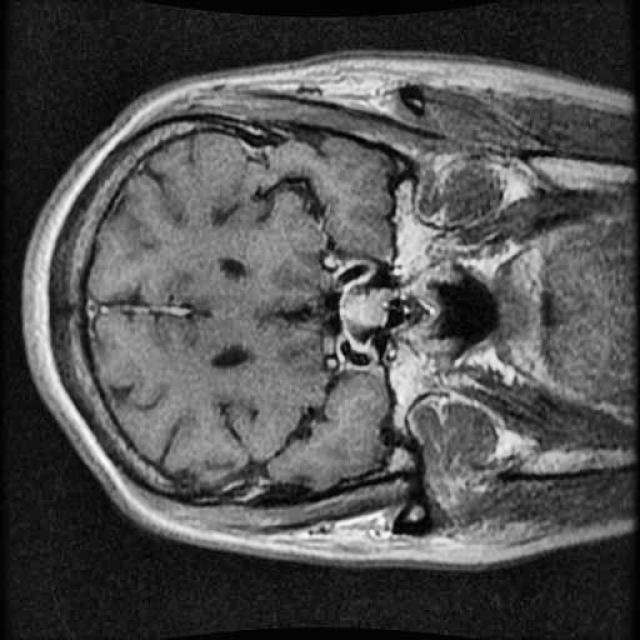Tumor: (339, 282, 399, 340)
